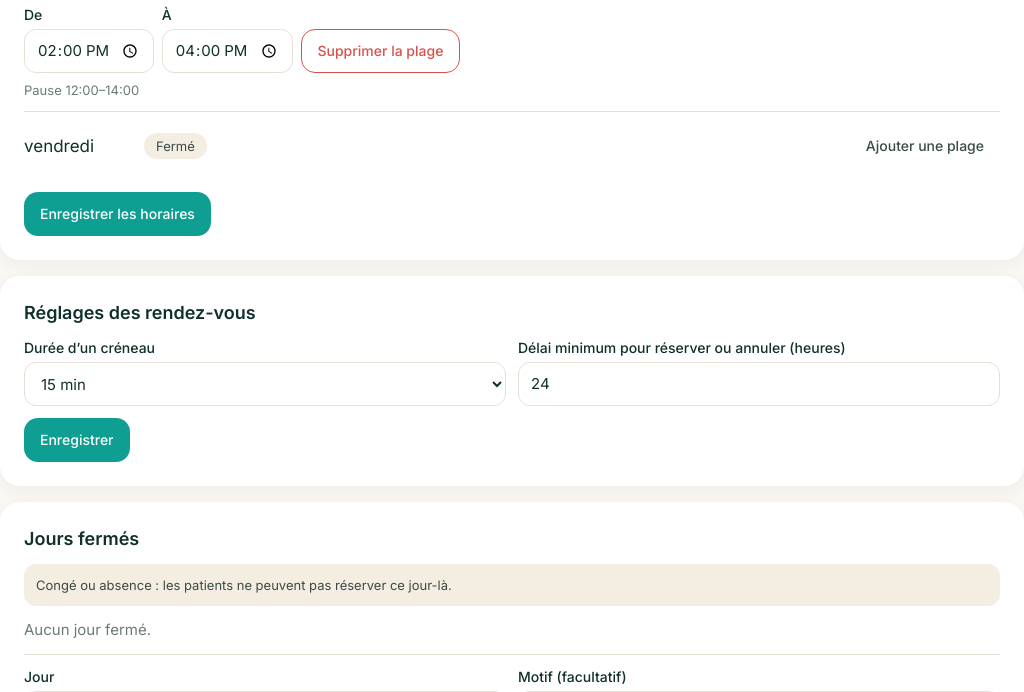
Test: Availability page › saves the slot length and the notice
(page scrolled)
Check: the element "Réglages des rendez-vous" is shown, box [0,276,1023,486]
Select "10 min" in the dropdown labelled "Durée d’un créneau" at (265, 384), box [24,362,506,406]
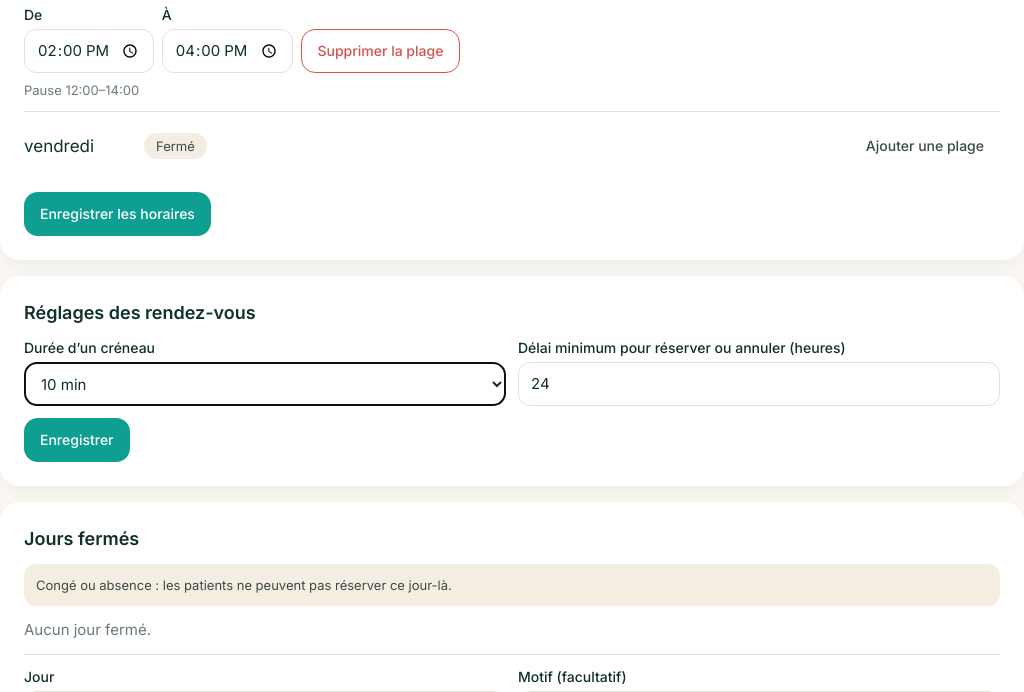
Replace the text in the number field labelled "Délai minimum pour réserver ou annuler (heures)" with "48" at (759, 384), box [518,362,1000,406]
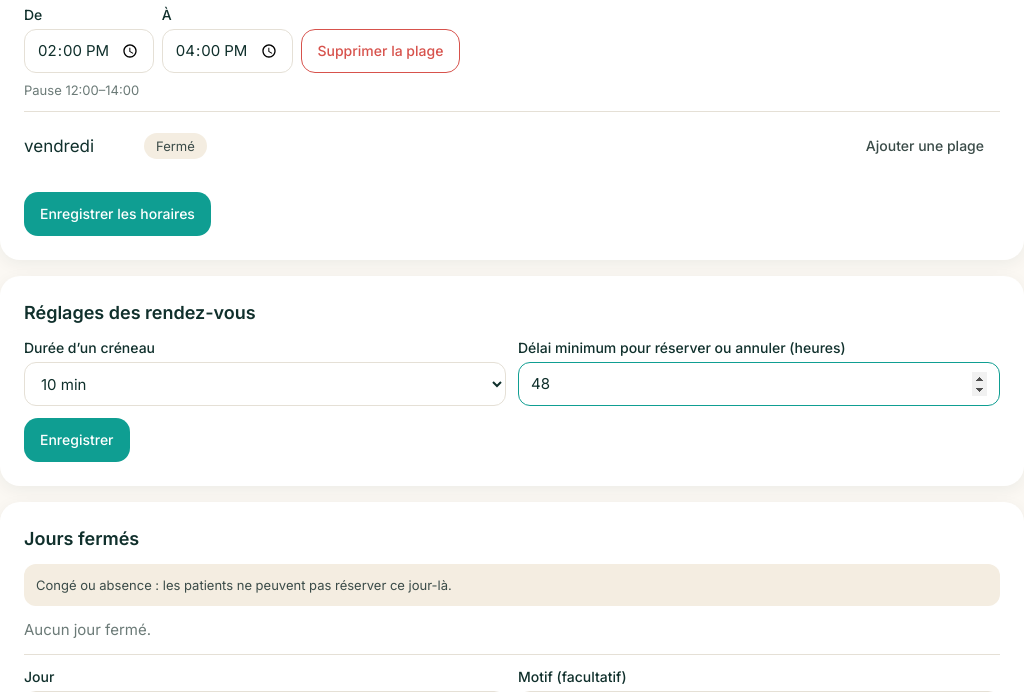
Click the button "Enregistrer" at (77, 440), box [24,418,130,462]
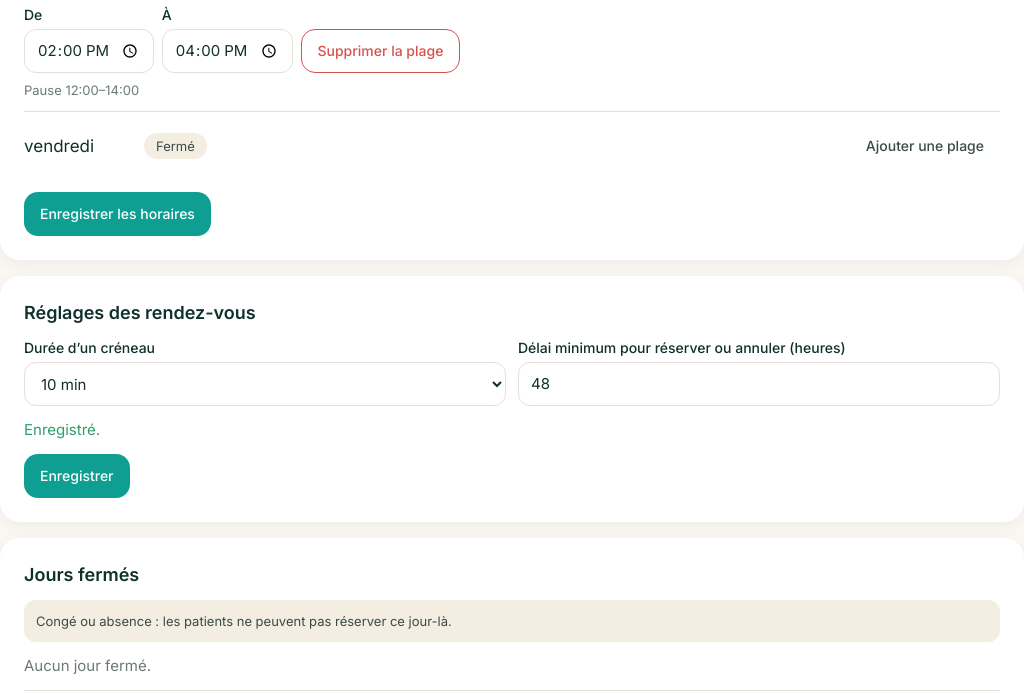
Check: the message reads "Enregistré.", box [24,420,100,439]
